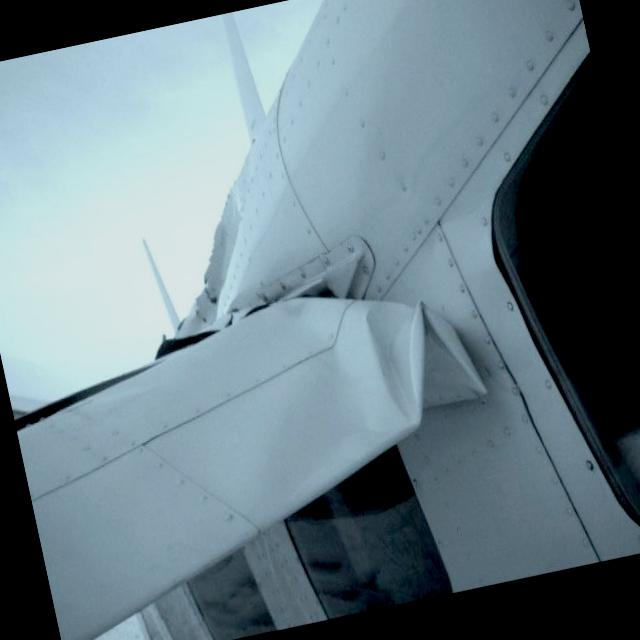dent: (355, 281, 497, 433)
